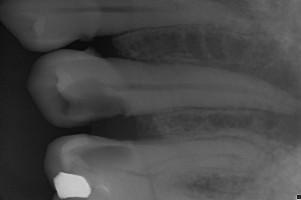Furcation Involvement: (221, 32, 301, 146)
